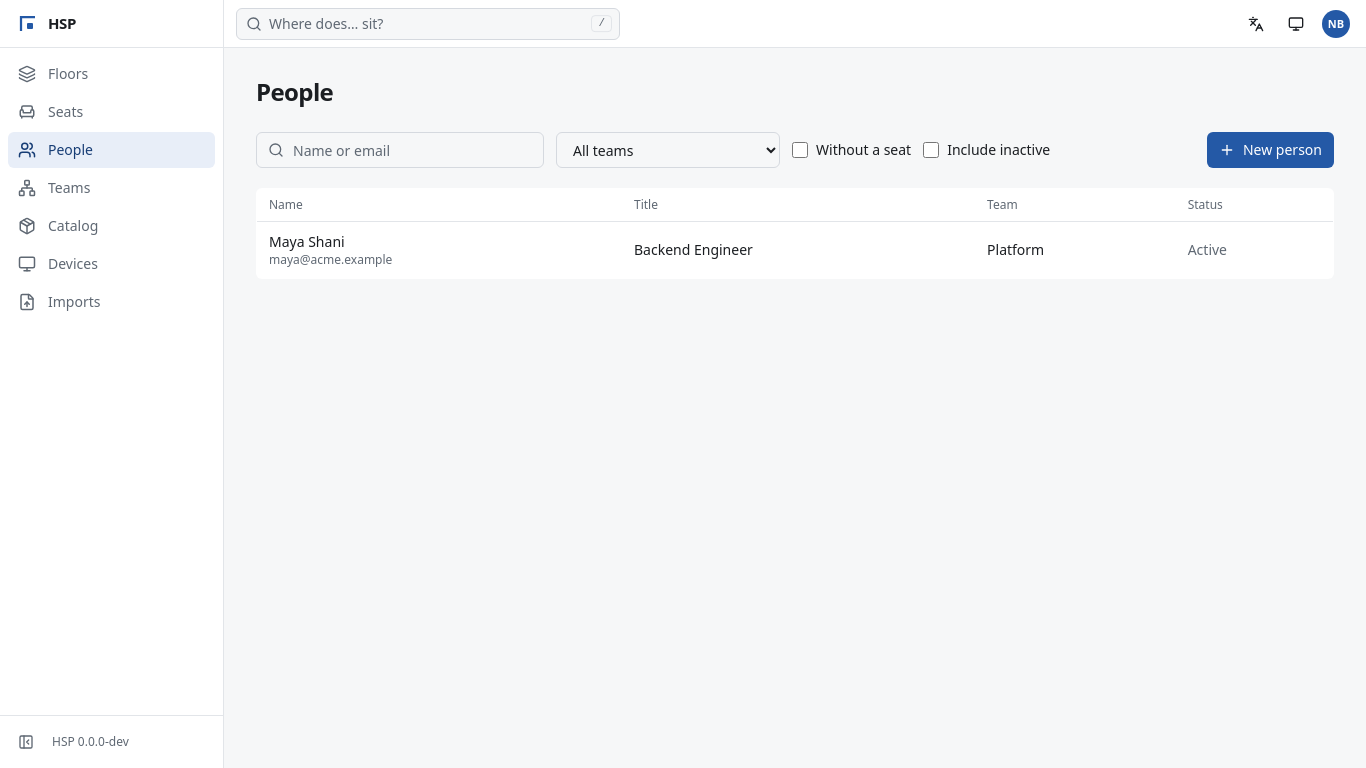
Test case: people (docs/0088) › an admin creates a person; a taken email is shown on its field
Click the button "New person".
click(1270, 150)  # box [1207,132,1334,168]
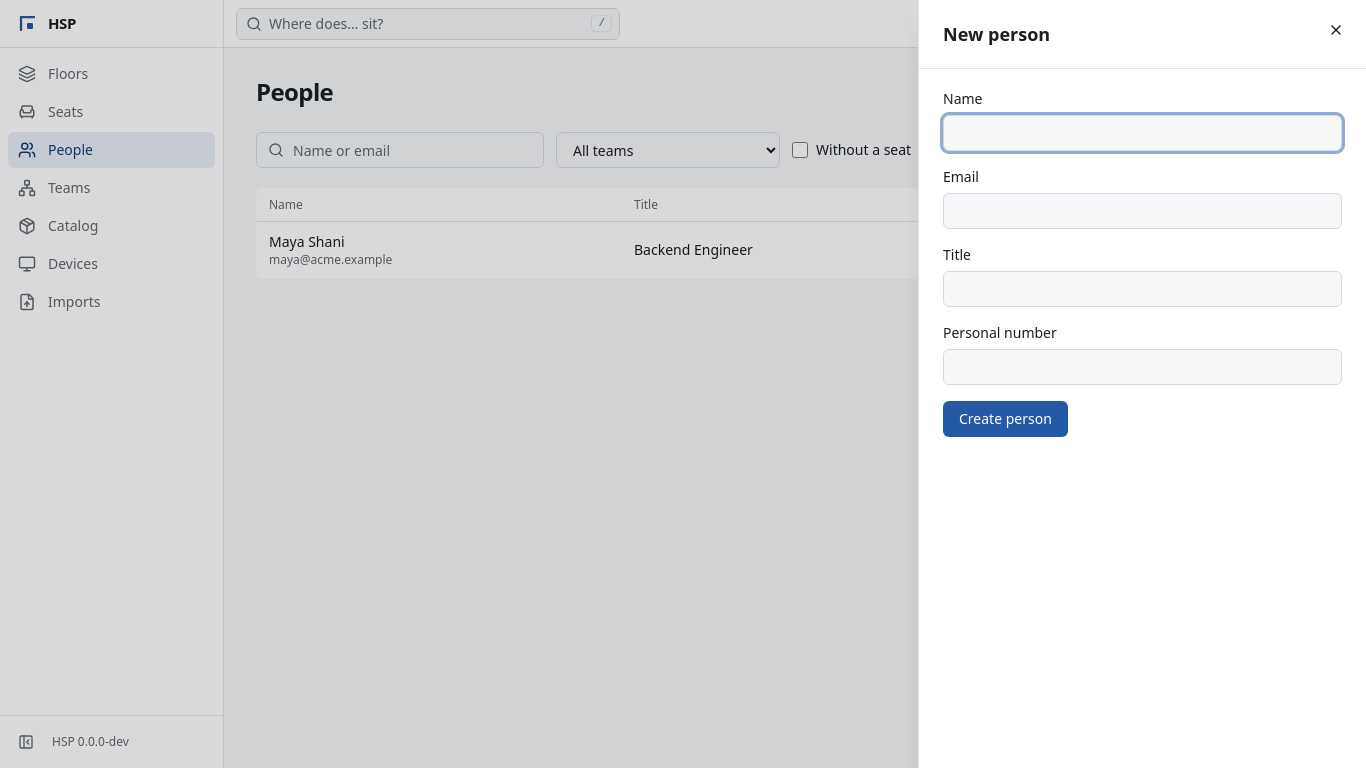
Type "Dana Cohen" into the field labelled "Name".
click(1142, 133); type("Dana Cohen")  # box [943,115,1342,151]
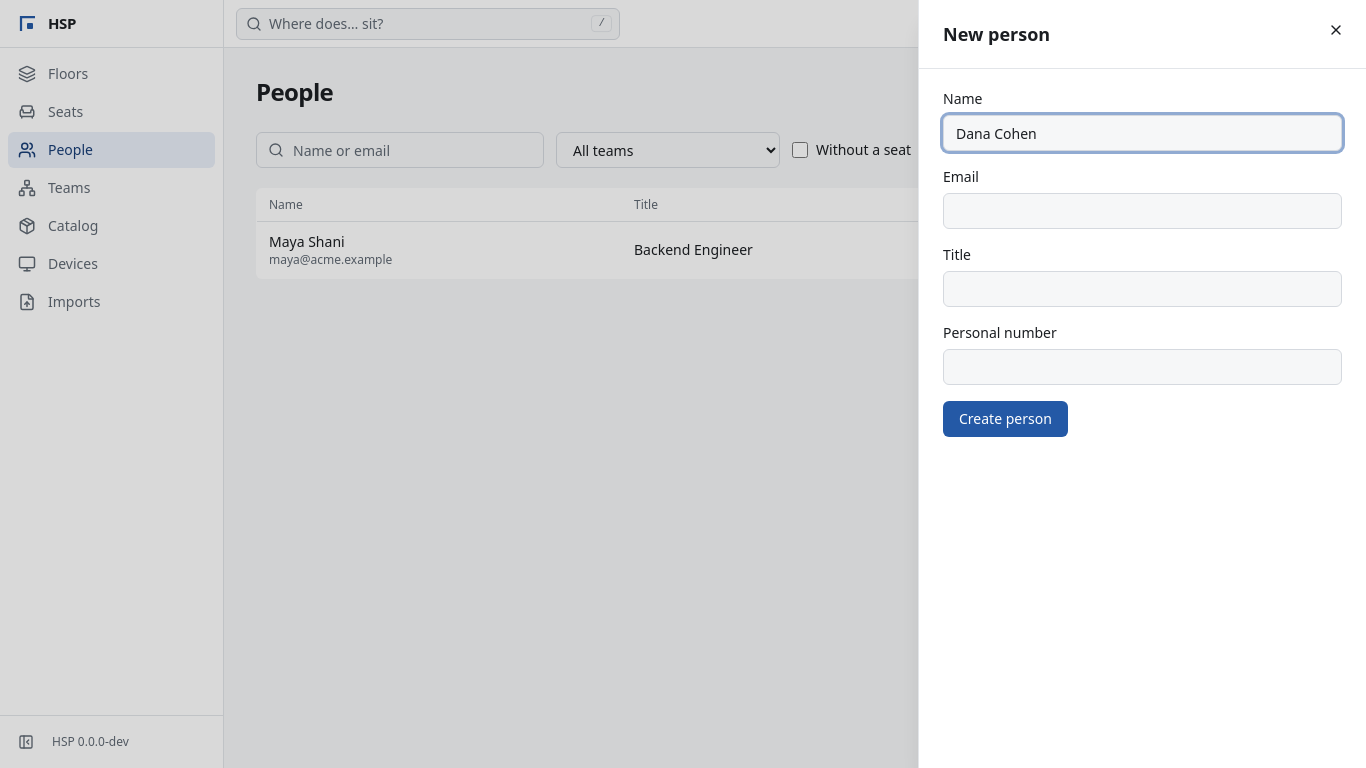
Type "dana@acme.example" into the field labelled "Email".
click(1142, 211); type("dana@acme.example")  # box [943,193,1342,229]
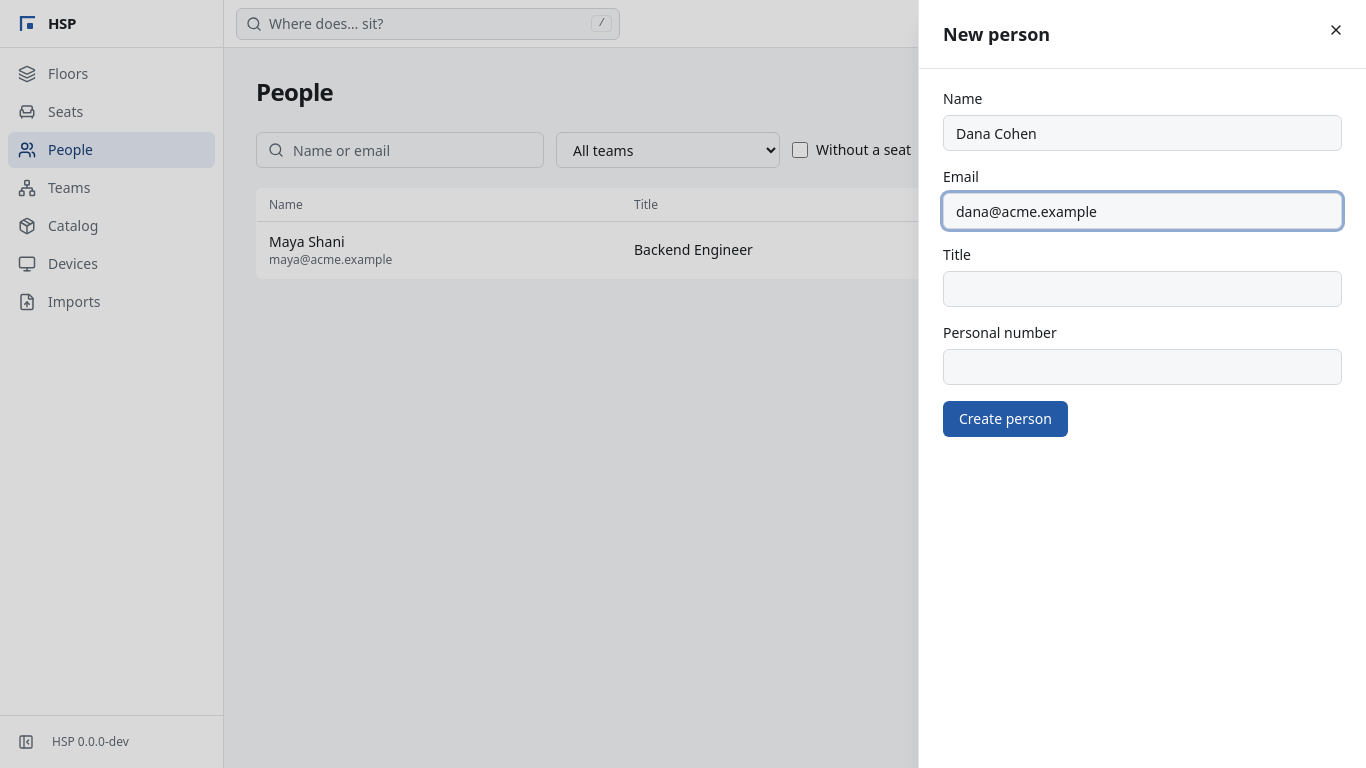
Click the button "Create person".
click(1005, 419)  # box [943,401,1068,437]
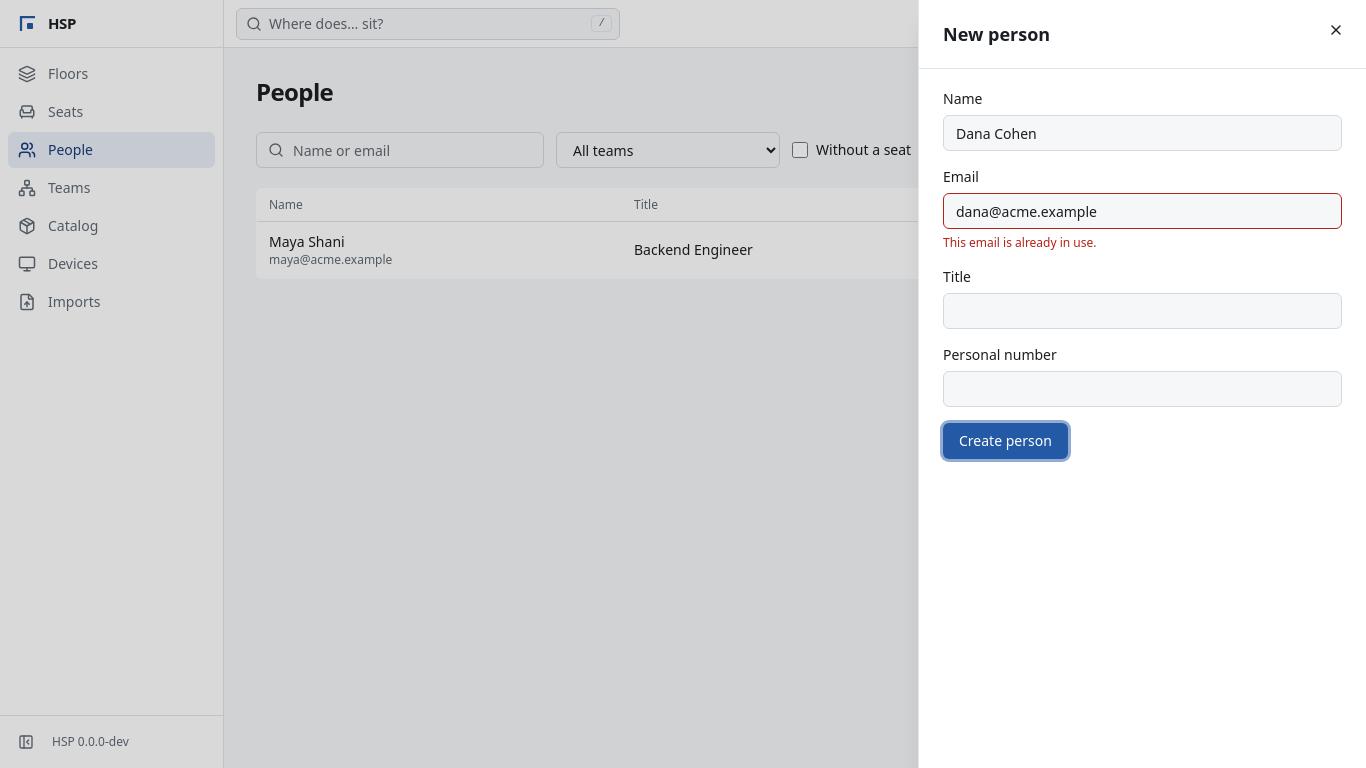
expect the text "This email is already in use." is shown: met, box [943,234,1096,251]
Click the button "Create person".
click(1005, 441)  # box [943,423,1068,459]
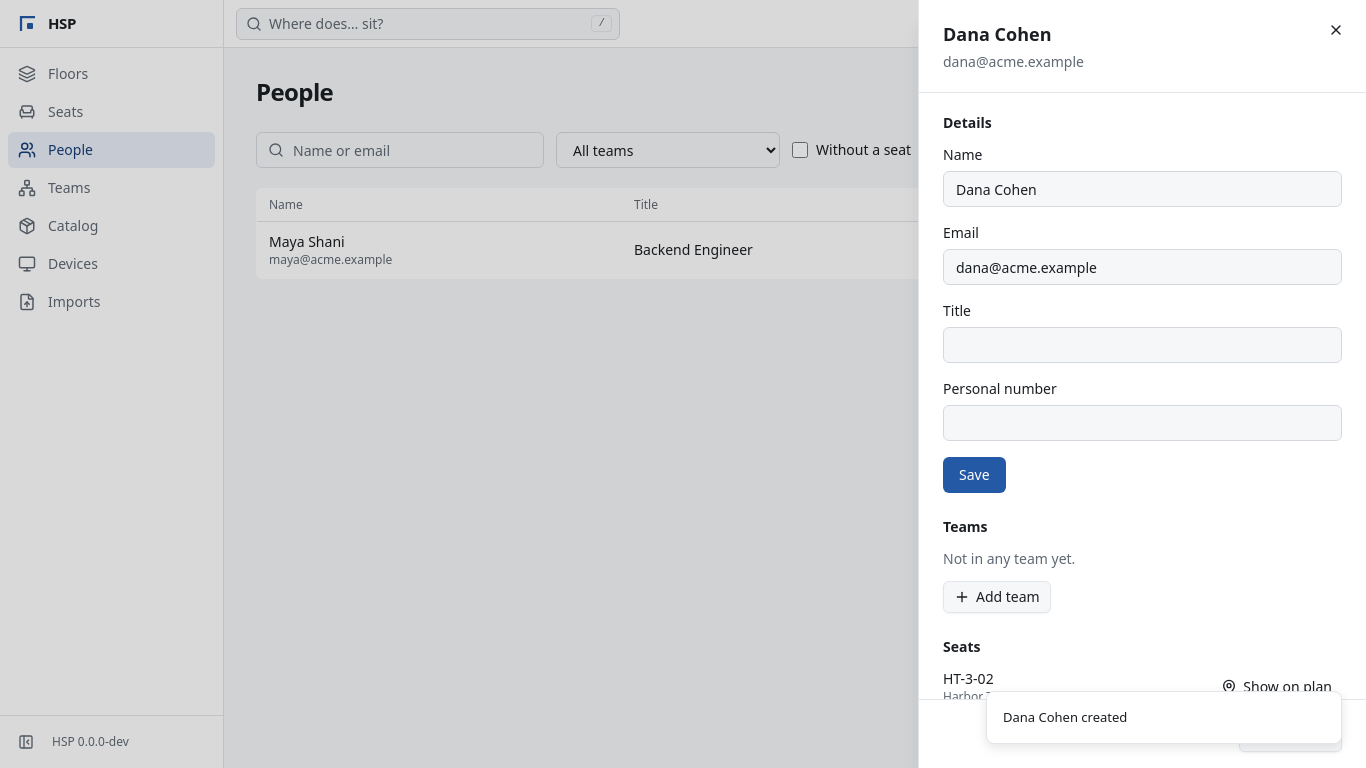
expect the text "Dana Cohen created" is shown: met, box [1003,708,1127,727]
